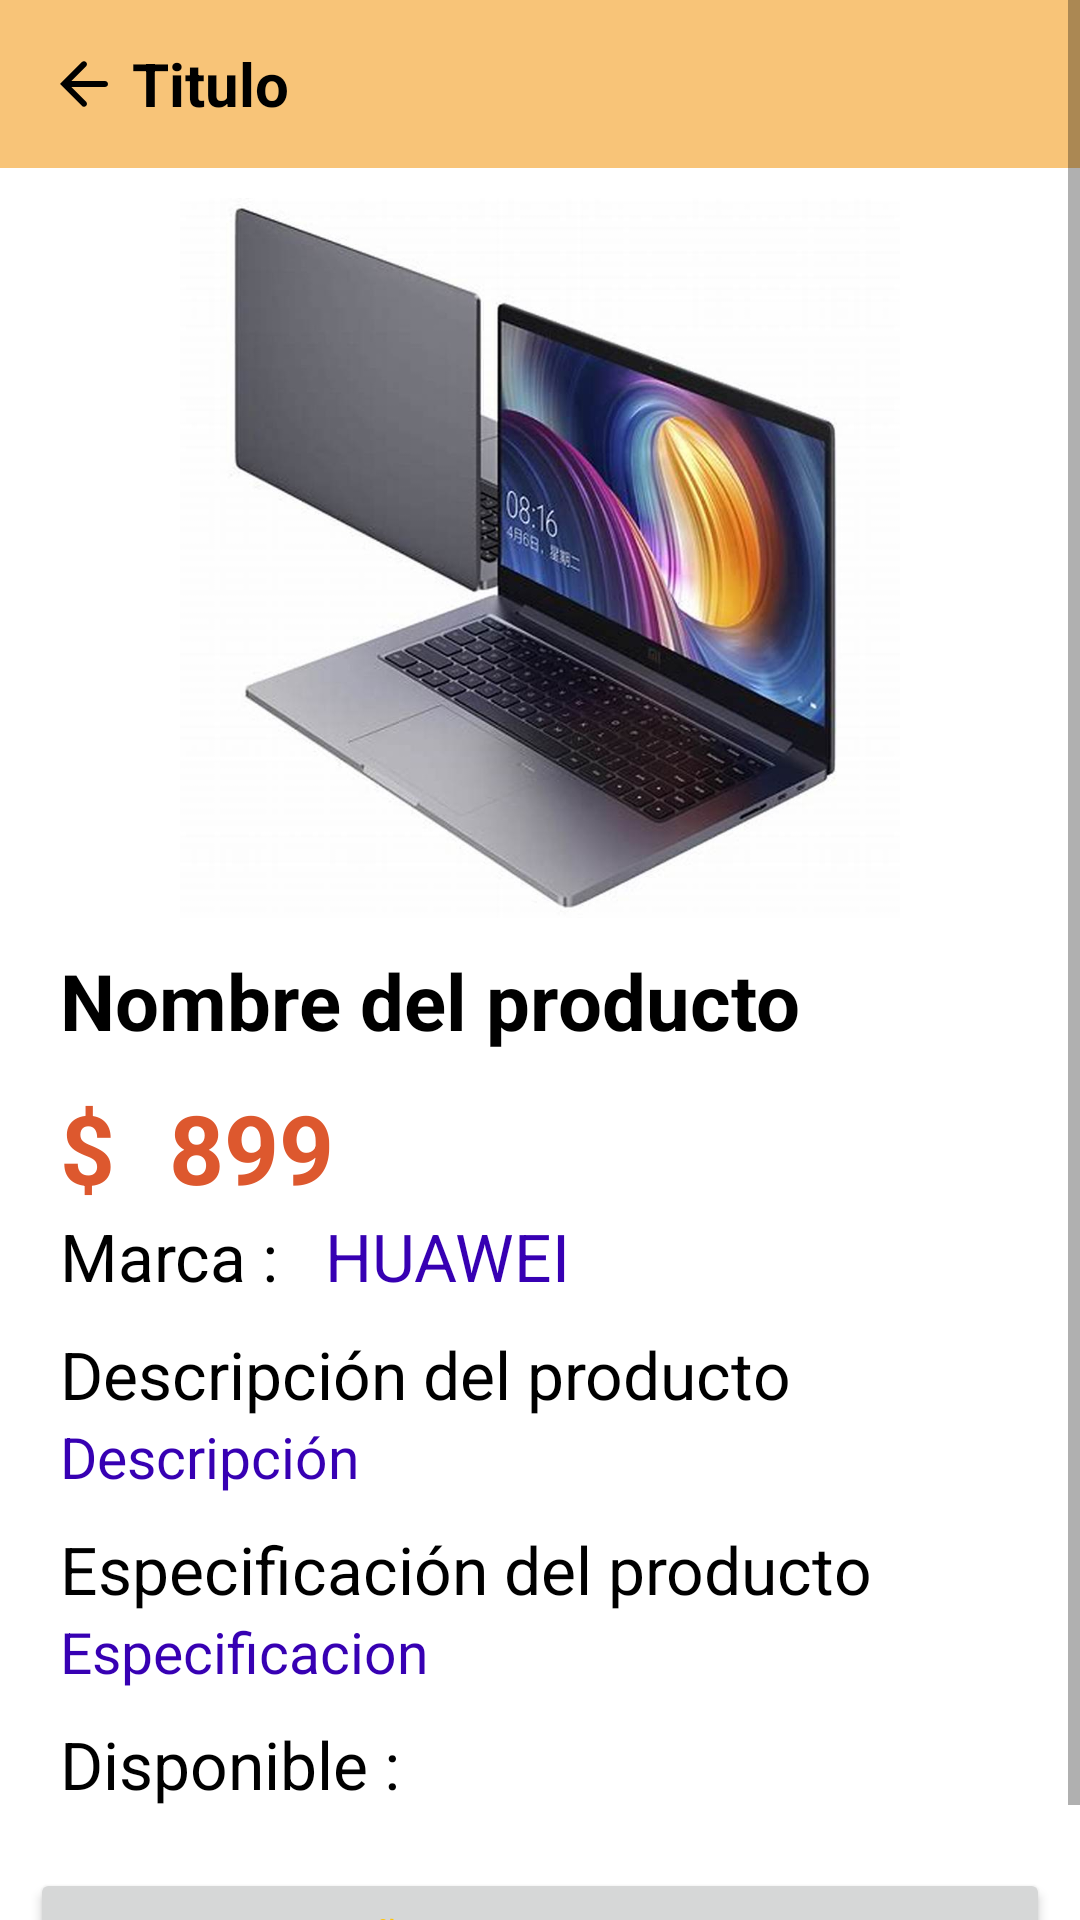

Screen size 1080×1920. Icon name, then its center in pixels as (x,y):
arrow left: (84,84)
